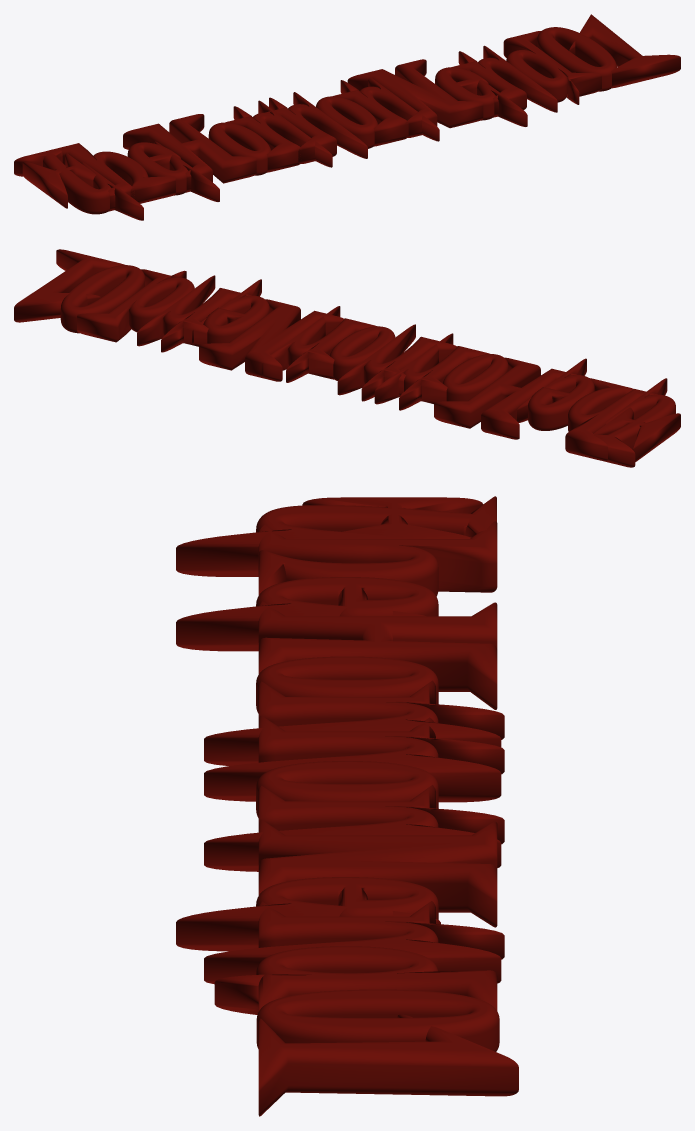
The model's file is horrornerdtextfin.glb.
3 views of the same model, one above another, from view 1: azimuth 30°, elevation 25°; view 2: azimuth 150°, elevation 25°; view 3: azimuth 270°, elevation 25° (orthographic). The views are drawn at different scales.
Parts seen in each view (by area): view 1: Text; view 2: Text; view 3: Text.
Boxes of the visible parts, x1,y1,x2,y2 form: Text: (14, 14, 680, 220); Text: (14, 249, 680, 467); Text: (176, 496, 518, 1116).
Bounding box in the file's own units: 742 × 25.81 × 181.
